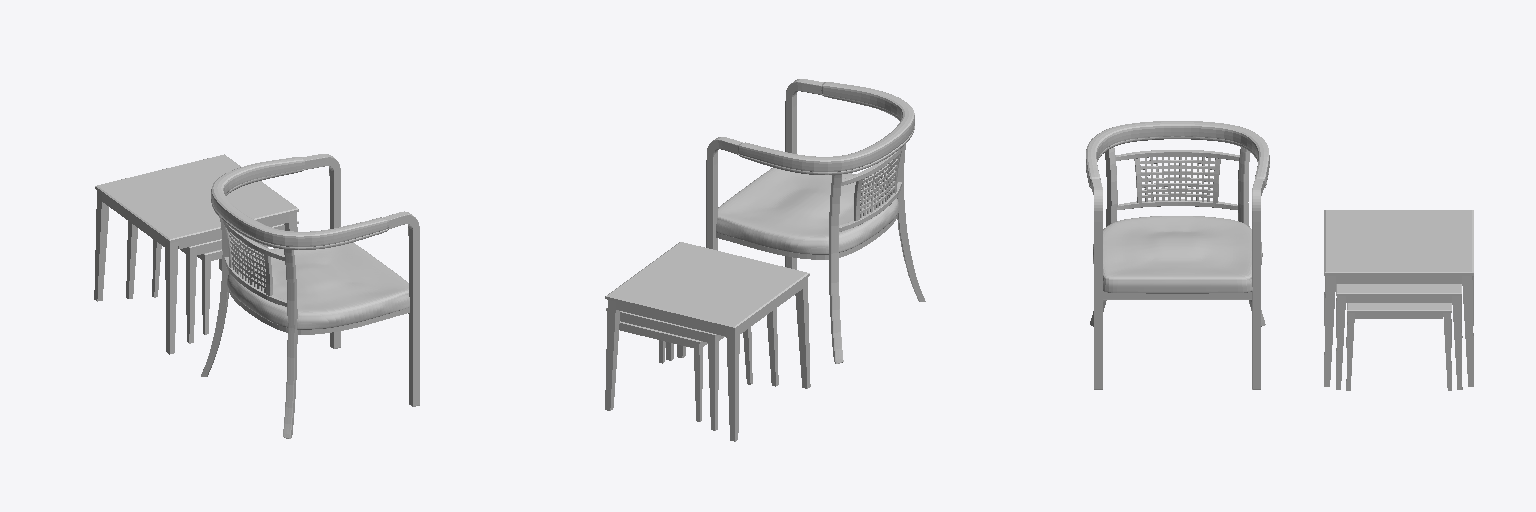
The model's file is chair_desk.obj.
3 views of the same model, side by side, from view 1: azimuth 30°, elevation 25°; view 2: azimuth 150°, elevation 25°; view 3: azimuth 270°, elevation 25° (orthographic).
Parts seen in each view (by area): view 1: stool.002_Cube.003, Chair_seat.001, frame.003_Cube.004, rail.001_Cube.002, stool.001_Cube.003, stool_Cube.003, frame.002_Cube.001; view 2: stool.002_Cube.003, Chair_seat.001, frame.003_Cube.004, rail.001_Cube.002, stool.001_Cube.003, stool_Cube.003, frame.002_Cube.001; view 3: stool.002_Cube.003, Chair_seat.001, frame.003_Cube.004, rail.001_Cube.002, stool.001_Cube.003, stool_Cube.003.
Part boxes in pixels (bbox=[...]): stool.002_Cube.003: bbox=[94, 154, 298, 354]; Chair_seat.001: bbox=[227, 242, 409, 329]; frame.003_Cube.004: bbox=[201, 154, 419, 438]; rail.001_Cube.002: bbox=[211, 157, 388, 249]; stool.001_Cube.003: bbox=[126, 221, 298, 343]; stool_Cube.003: bbox=[152, 239, 269, 334]; frame.002_Cube.001: bbox=[229, 290, 409, 334]; stool.002_Cube.003: bbox=[605, 242, 810, 441]; Chair_seat.001: bbox=[716, 168, 898, 254]; frame.003_Cube.004: bbox=[706, 79, 925, 363]; rail.001_Cube.002: bbox=[738, 82, 914, 174]; stool.001_Cube.003: bbox=[606, 308, 778, 430]; stool_Cube.003: bbox=[614, 321, 752, 421]; frame.002_Cube.001: bbox=[716, 214, 897, 259]; stool.002_Cube.003: bbox=[1324, 210, 1473, 386]; Chair_seat.001: bbox=[1093, 216, 1262, 293]; frame.003_Cube.004: bbox=[1090, 147, 1265, 389]; rail.001_Cube.002: bbox=[1086, 121, 1269, 187]; stool.001_Cube.003: bbox=[1336, 284, 1462, 389]; stool_Cube.003: bbox=[1346, 303, 1451, 390].
Bounding box in the file's own units: 0.5797 × 0.7184 × 1.28.